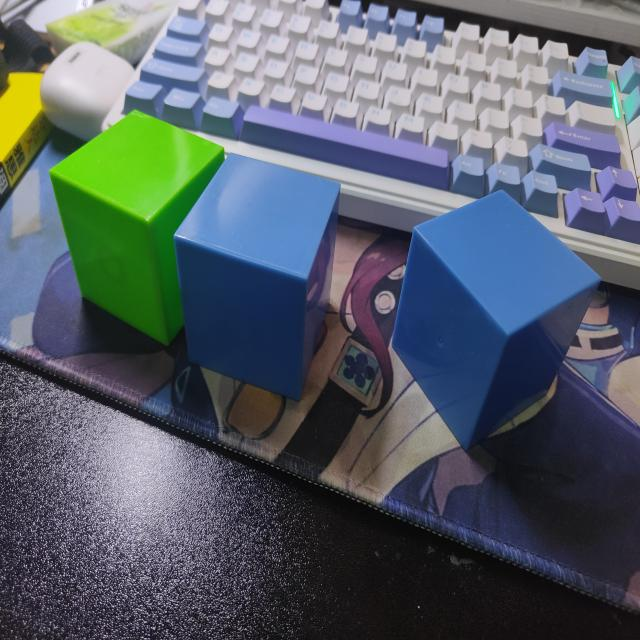blue: (391, 191, 603, 453), (172, 153, 341, 399)
green: (47, 112, 226, 351)
